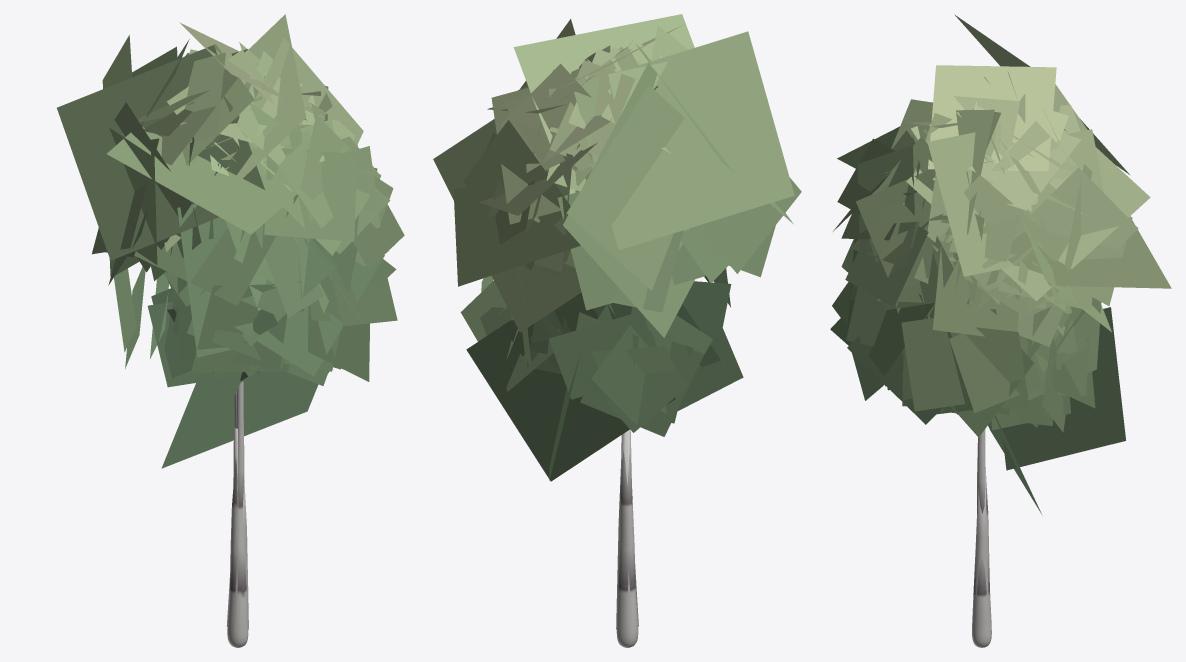
The model's file is silver_birch_v0.glb.
The picture shows the model from 3 angles, left to right: view 1: azimuth 30°, elevation 25°; view 2: azimuth 150°, elevation 25°; view 3: azimuth 270°, elevation 25°; orthographic projection. The views are drawn at different scales.
Parts seen in each view (by area): view 1: near, far; view 2: far, near; view 3: near, far.
Boxes of the visible parts, box(x1,y1,x2,y2) form: near: box(92, 39, 404, 647); far: box(57, 14, 384, 632); far: box(433, 14, 794, 632); near: box(460, 26, 801, 647); near: box(830, 77, 1138, 647); far: box(837, 14, 1171, 632).
Size of the model in its own units: 8.42 by 14.15 by 7.49.
